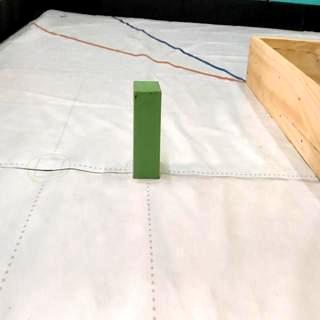greenbox: (132, 79, 163, 178)
